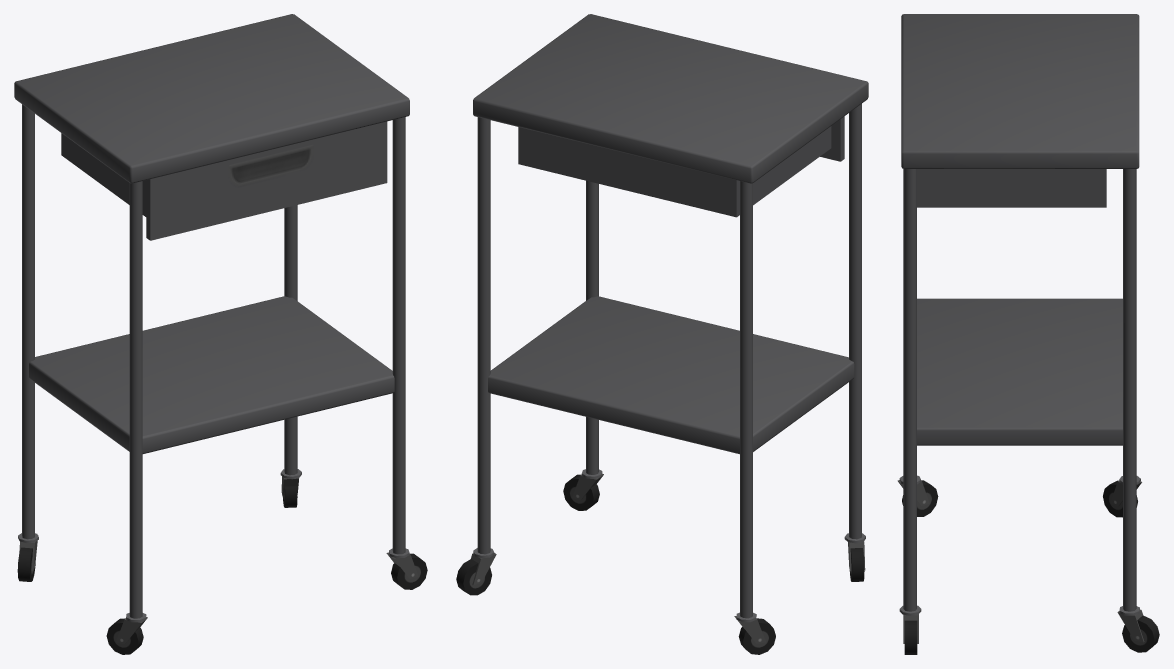
The model's file is trolley1.FBX.
3 views of the same model, side by side, from view 1: azimuth 30°, elevation 25°; view 2: azimuth 150°, elevation 25°; view 3: azimuth 270°, elevation 25° (orthographic).
Parts seen in each view (by area): view 1: trolley1; view 2: trolley1; view 3: trolley1.
Boxes of the visible parts, <box> form: trolley1: <box>14,14,427,654</box>; trolley1: <box>456,14,868,654</box>; trolley1: <box>897,14,1159,654</box>.
Size of the model in its own units: 21.03 by 15.29 by 32.14.
